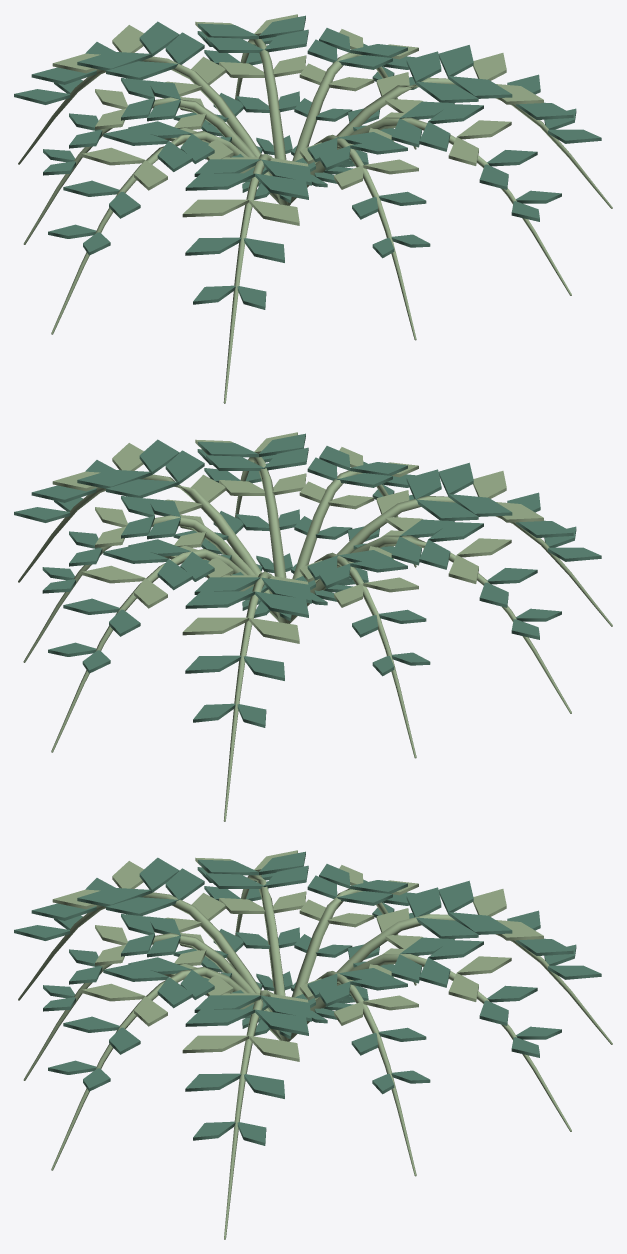
The model's file is forest_fern.glb.
3 views of the same model, one above another, from view 1: azimuth 30°, elevation 25°; view 2: azimuth 150°, elevation 25°; view 3: azimuth 270°, elevation 25° (orthographic).
Visible parts, largest first — view 1: forest-floor-fern; view 2: forest-floor-fern; view 3: forest-floor-fern.
Boxes of the visible parts, box(x1,y1,x2,y2) form: forest-floor-fern: box(14, 14, 612, 403); forest-floor-fern: box(14, 432, 612, 821); forest-floor-fern: box(14, 850, 612, 1239).
Bounding box in the file's own units: 2.22 × 0.6162 × 2.07.
